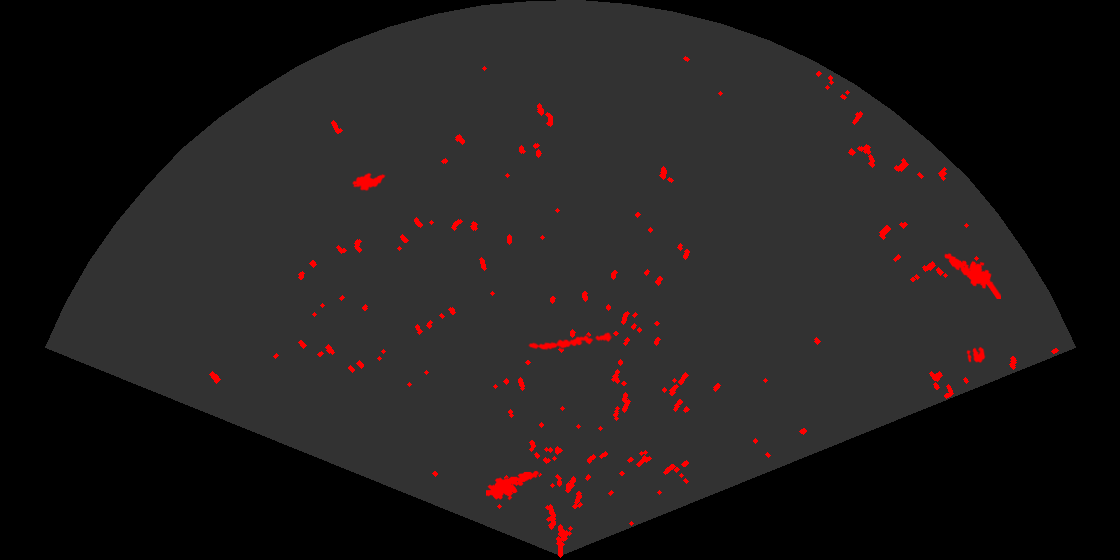AUV: (351, 171, 387, 193)
ball: (965, 345, 987, 364)
chain: (526, 331, 614, 352)
frogman: (943, 251, 1001, 299), (486, 469, 540, 502)
